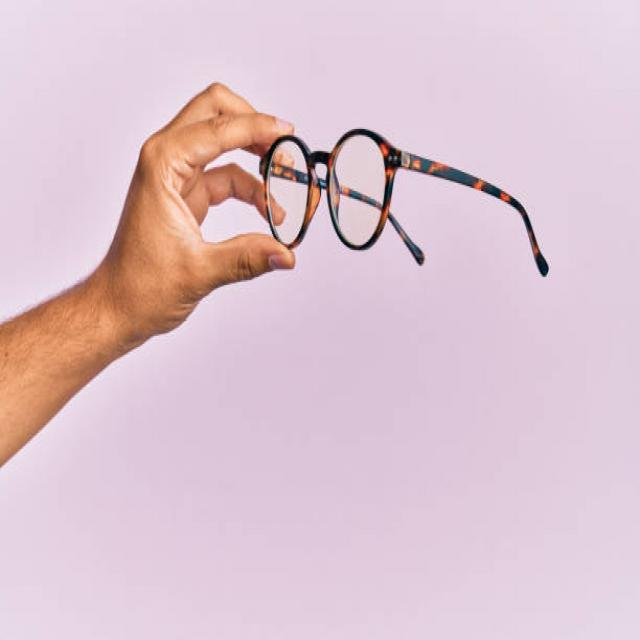glasses: (242, 84, 572, 370)
